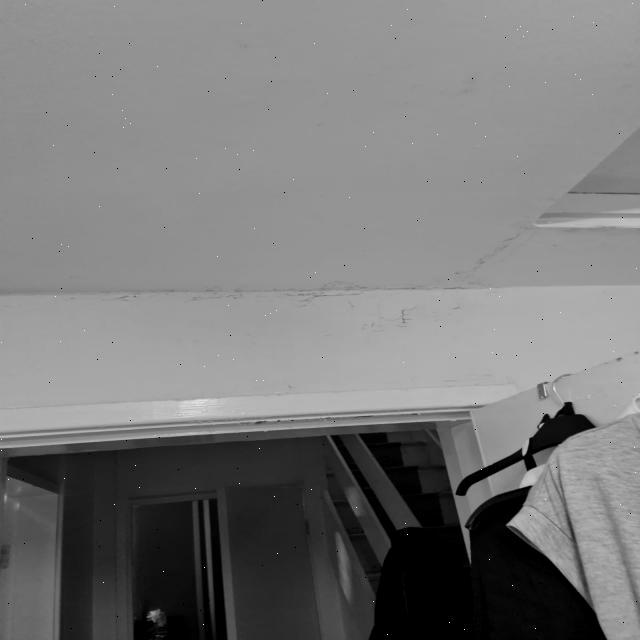stain marks: (70, 227, 550, 342)
